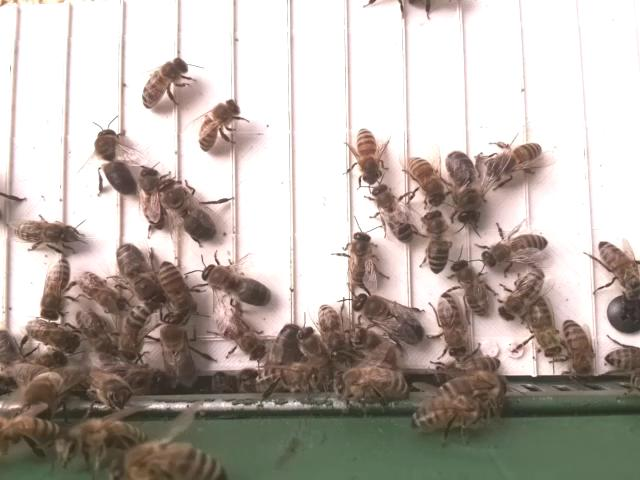Drone: (158, 175, 220, 243), (350, 291, 425, 347), (114, 240, 165, 311), (94, 124, 141, 198), (160, 313, 201, 395), (200, 263, 274, 307), (445, 147, 483, 227)
Worker: (373, 180, 416, 246), (137, 58, 189, 111), (213, 313, 268, 360), (75, 268, 130, 315), (480, 233, 550, 269), (598, 239, 640, 298), (450, 259, 492, 316), (434, 289, 468, 358), (197, 99, 239, 154), (499, 268, 542, 321), (38, 257, 72, 320), (408, 152, 447, 206), (137, 163, 167, 232), (485, 143, 543, 178), (422, 208, 452, 275), (25, 317, 81, 352), (528, 298, 560, 359), (563, 318, 596, 375), (16, 219, 82, 247), (318, 301, 349, 359), (346, 230, 374, 289), (355, 126, 383, 184)
